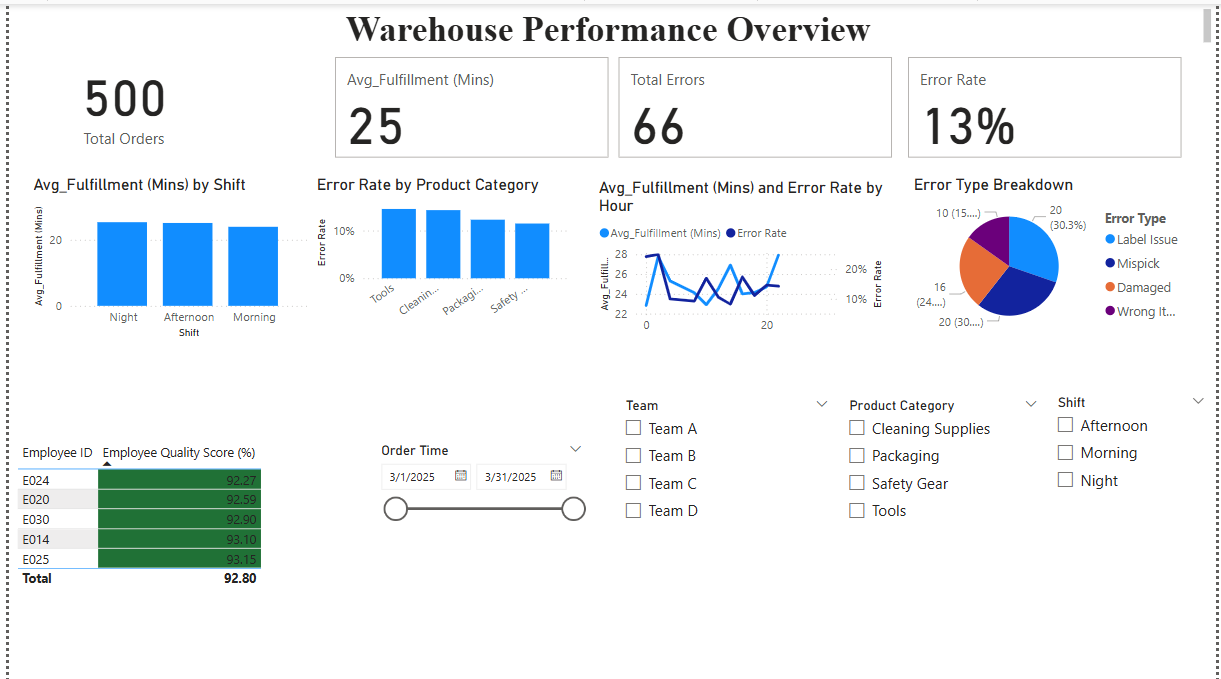

This screenshot's page, from the dashboard's own definition file:
{"tool":"powerbi","page":{"name":"Overview","canvas":[1280,720],"ordinal":1},"visuals":[{"type":"textbox","box":[0,0,1279.4,49.1],"z":0},{"type":"card","fields":{"Values":["fulfillment_data_xls.Total Orders"]},"box":[0,50.3,243.5,105.5],"z":1000},{"type":"cardVisual","fields":{"Data":["fulfillment_data_xls.Total Errors"]},"box":[640.6,51,300.5,117.2],"z":2000},{"type":"cardVisual","fields":{"Data":["fulfillment_data_xls.Error Rate"]},"box":[948.7,51,300.5,117.2],"z":3000},{"type":"cardVisual","fields":{"Data":["fulfillment_data_xls.Avg_Fulfillment"]},"box":[340.2,51,300.5,117.2],"z":4000},{"type":"clusteredColumnChart","fields":{"Y":["fulfillment_data_xls.Avg_Fulfillment"],"Category":["fulfillment_data_xls.Shift"]},"box":[20.8,181.4,300.5,177.6],"z":5000},{"type":"clusteredColumnChart","fields":{"Y":["fulfillment_data_xls.Error Rate"],"Category":["fulfillment_data_xls.Product Category"]},"box":[321.3,181.4,277.8,162.5],"z":6000},{"type":"lineChart","fields":{"Category":["fulfillment_data_xls.Hour"],"Y":["fulfillment_data_xls.Avg_Fulfillment"],"Y2":["fulfillment_data_xls.Error Rate"]},"box":[619.8,185.2,311.8,173.9],"z":7000},{"type":"pieChart","title":"Error Type Breakdown","fields":{"Y":["CountNonNull(fulfillment_data_xls.Error Type)"],"Category":["fulfillment_data_xls.Error Type"]},"box":[954.3,181.4,300.5,173.9],"z":8000},{"type":"slicer","fields":{"Values":["fulfillment_data_xls.Team"]},"box":[640.6,412,240,308],"z":9000},{"type":"slicer","fields":{"Values":["fulfillment_data_xls.Product Category"]},"box":[878.7,412,224.9,308],"z":10000},{"type":"slicer","fields":{"Values":["fulfillment_data_xls.Shift"]},"box":[1099.4,408.3,181.2,308.7],"z":11000},{"type":"slicer","fields":{"Values":["fulfillment_data_xls.Order Time"]},"box":[381.7,459.2,238.1,260.8],"z":12000},{"type":"tableEx","fields":{"Values":["fulfillment_data_xls.Employee ID","fulfillment_data_xls.Employee Quality Score (%)"]},"box":[3.8,459.2,334.5,213.5],"z":13000}]}

Visuals, with their boxes in screenshot pixels (x1, y1, x2, y2), scaled from the page's 1280x720 canvas onto the 1221x679 screenshot:
textbox: <bbox>0, 0, 1220, 46</bbox>
card - fulfillment_data_xls.Total Orders: <bbox>0, 47, 232, 147</bbox>
cardVisual - fulfillment_data_xls.Total Errors: <bbox>611, 48, 898, 159</bbox>
cardVisual - fulfillment_data_xls.Error Rate: <bbox>905, 48, 1192, 159</bbox>
cardVisual - fulfillment_data_xls.Avg_Fulfillment: <bbox>325, 48, 611, 159</bbox>
clusteredColumnChart - fulfillment_data_xls.Avg_Fulfillment x fulfillment_data_xls.Shift: <bbox>20, 171, 306, 339</bbox>
clusteredColumnChart - fulfillment_data_xls.Error Rate x fulfillment_data_xls.Product Category: <bbox>306, 171, 571, 324</bbox>
lineChart - fulfillment_data_xls.Hour x fulfillment_data_xls.Avg_Fulfillment: <bbox>591, 175, 889, 339</bbox>
"Error Type Breakdown" pieChart: <bbox>910, 171, 1197, 335</bbox>
slicer - fulfillment_data_xls.Team: <bbox>611, 389, 840, 678</bbox>
slicer - fulfillment_data_xls.Product Category: <bbox>838, 389, 1053, 678</bbox>
slicer - fulfillment_data_xls.Shift: <bbox>1049, 385, 1220, 676</bbox>
slicer - fulfillment_data_xls.Order Time: <bbox>364, 433, 591, 678</bbox>
tableEx - fulfillment_data_xls.Employee ID x fulfillment_data_xls.Employee Quality Score (%): <bbox>4, 433, 323, 634</bbox>
